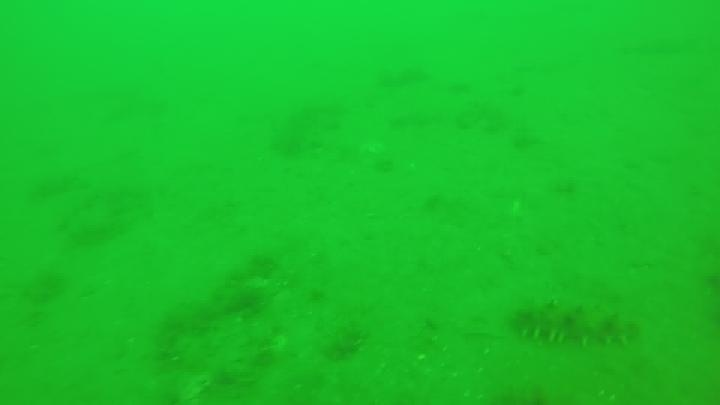holothurian: (156, 249, 277, 343), (508, 299, 643, 350)
